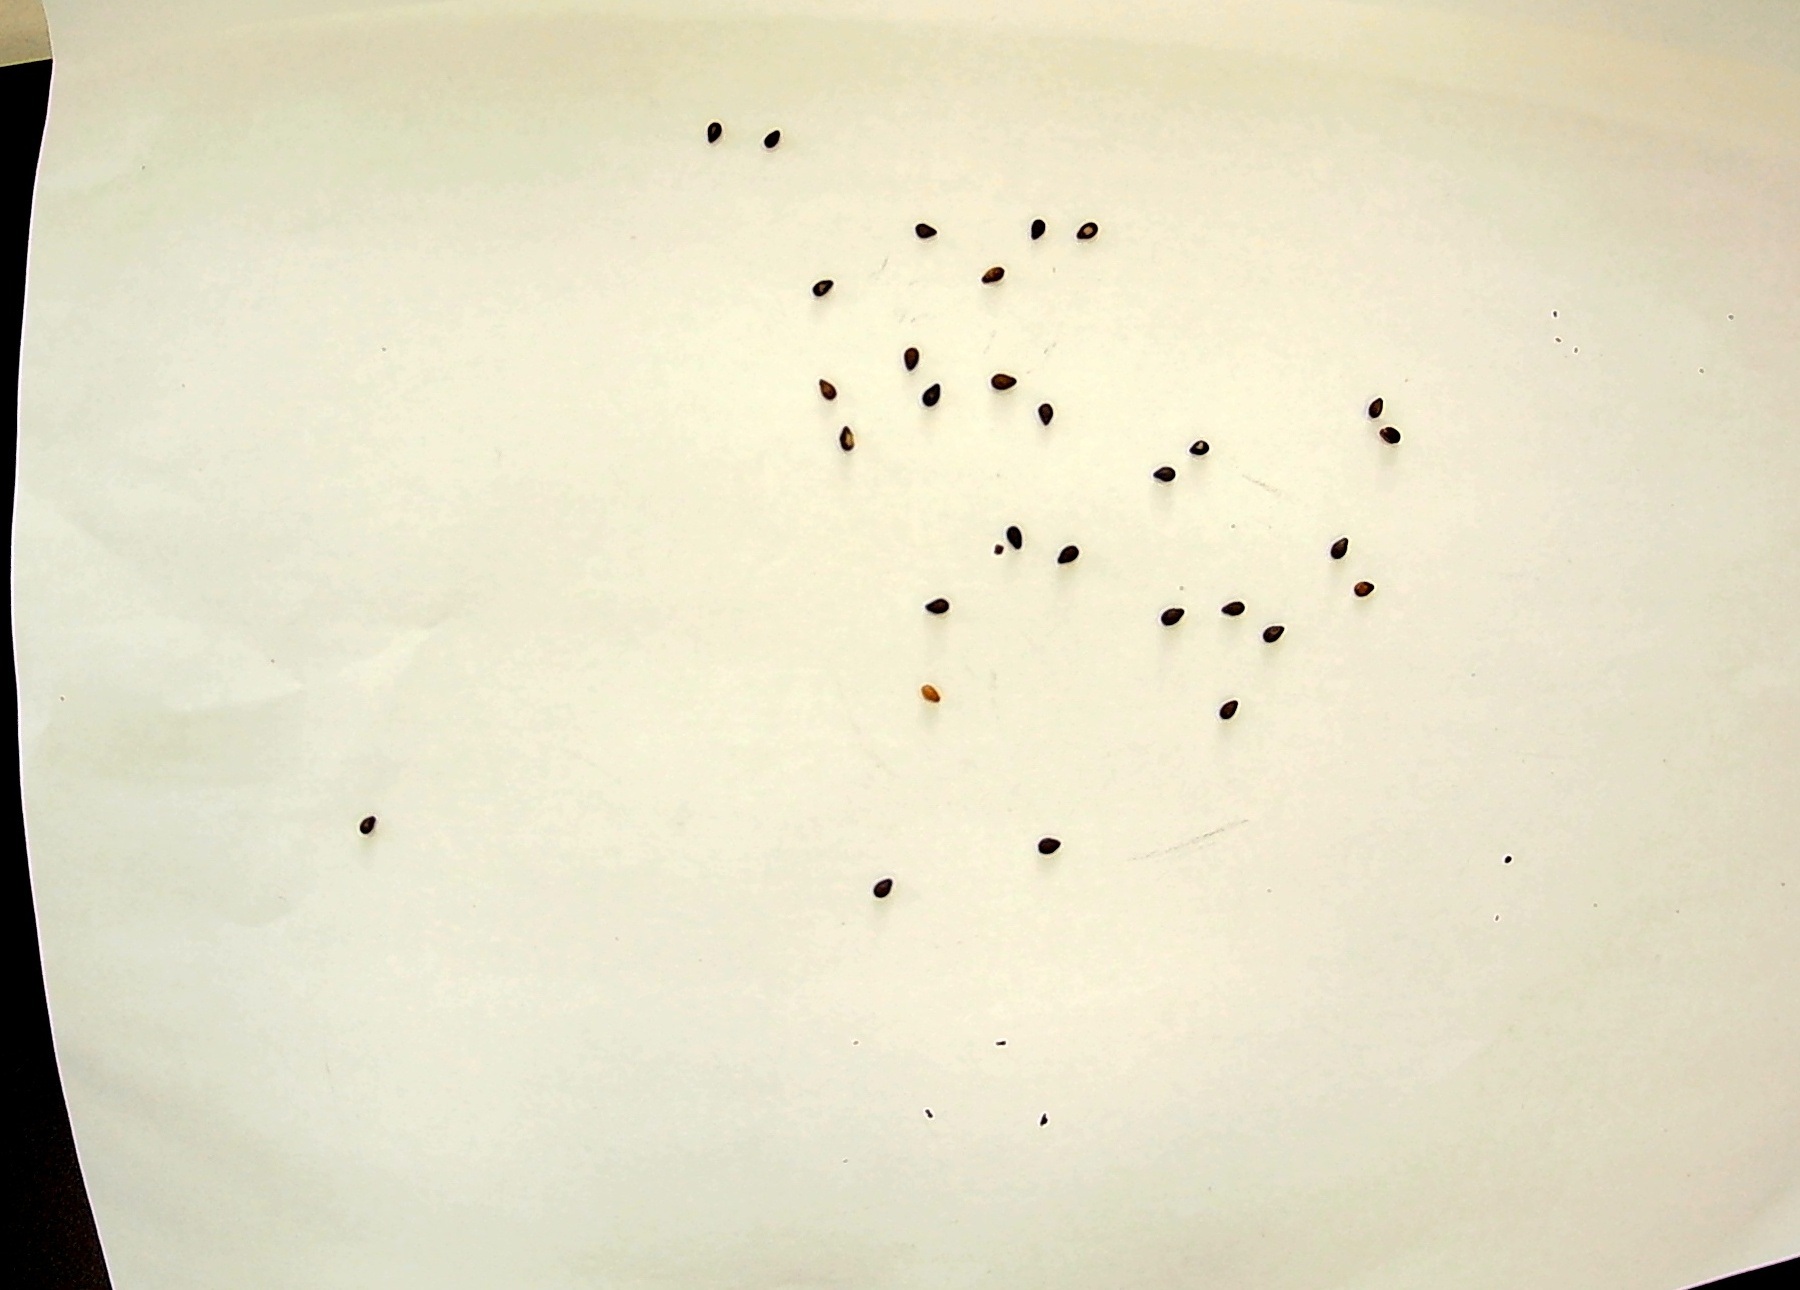sesami: (1014, 215, 1056, 251), (680, 110, 721, 147), (802, 268, 844, 304), (892, 349, 933, 385), (1030, 395, 1072, 431), (1365, 378, 1407, 415), (1222, 593, 1264, 630), (1143, 588, 1185, 624), (920, 589, 961, 625), (834, 419, 876, 455), (813, 378, 855, 415), (349, 806, 391, 842), (985, 356, 1026, 392), (1080, 212, 1120, 249), (901, 208, 942, 244), (751, 123, 791, 159), (913, 373, 953, 409), (1147, 451, 1187, 487), (1176, 426, 1217, 462), (1366, 408, 1407, 444), (1243, 614, 1284, 651), (1207, 699, 1247, 736), (1034, 818, 1074, 854), (900, 666, 940, 702), (868, 873, 908, 909), (998, 515, 1038, 551), (975, 253, 1017, 288), (1337, 565, 1379, 600), (1320, 524, 1360, 558), (1060, 537, 1101, 572)
